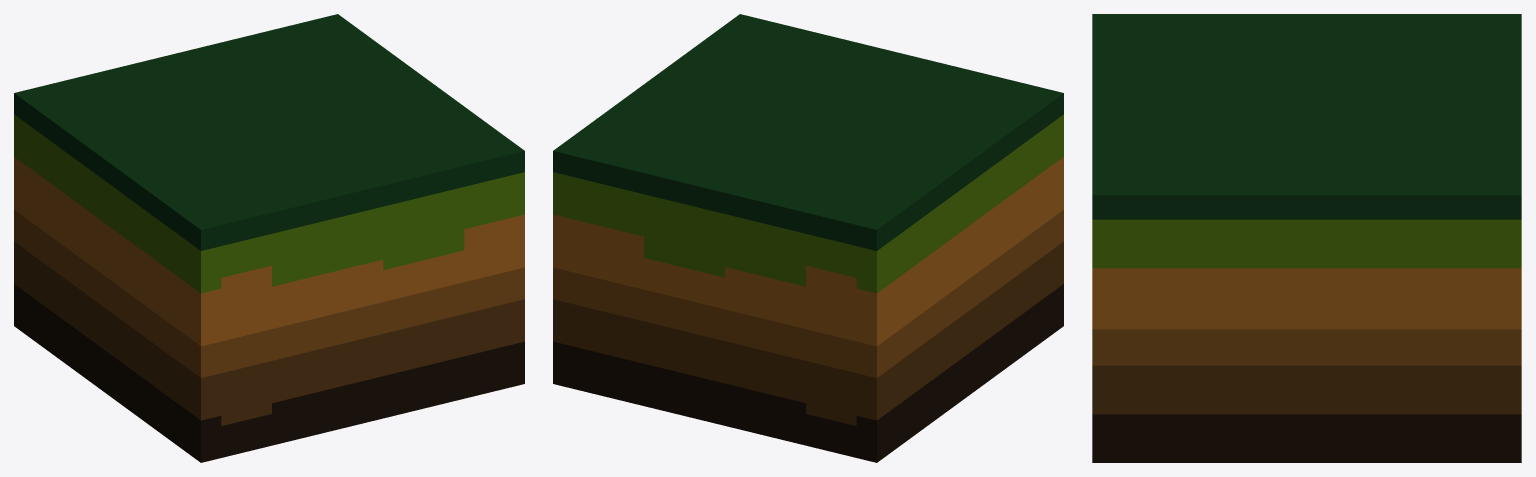
File: wall_dirt_2.obj
3 renders of one model, left to right at view 1: azimuth 30°, elevation 25°; view 2: azimuth 150°, elevation 25°; view 3: azimuth 270°, elevation 25°, orthographic. The views are drawn at different scales.
Size of the model in its own units: 3.2 by 2.2 by 3.2.
Materials: 1 (1 with a texture image).
